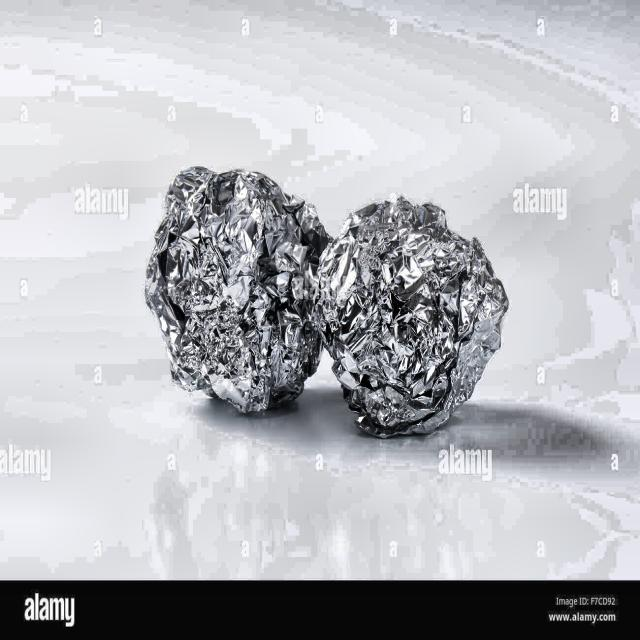Foil: (129, 143, 337, 457), (306, 160, 514, 455)
